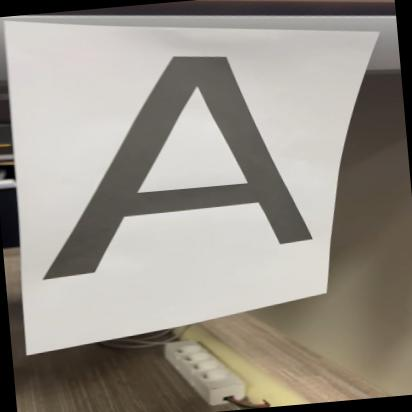seat: (17, 35, 325, 296)
